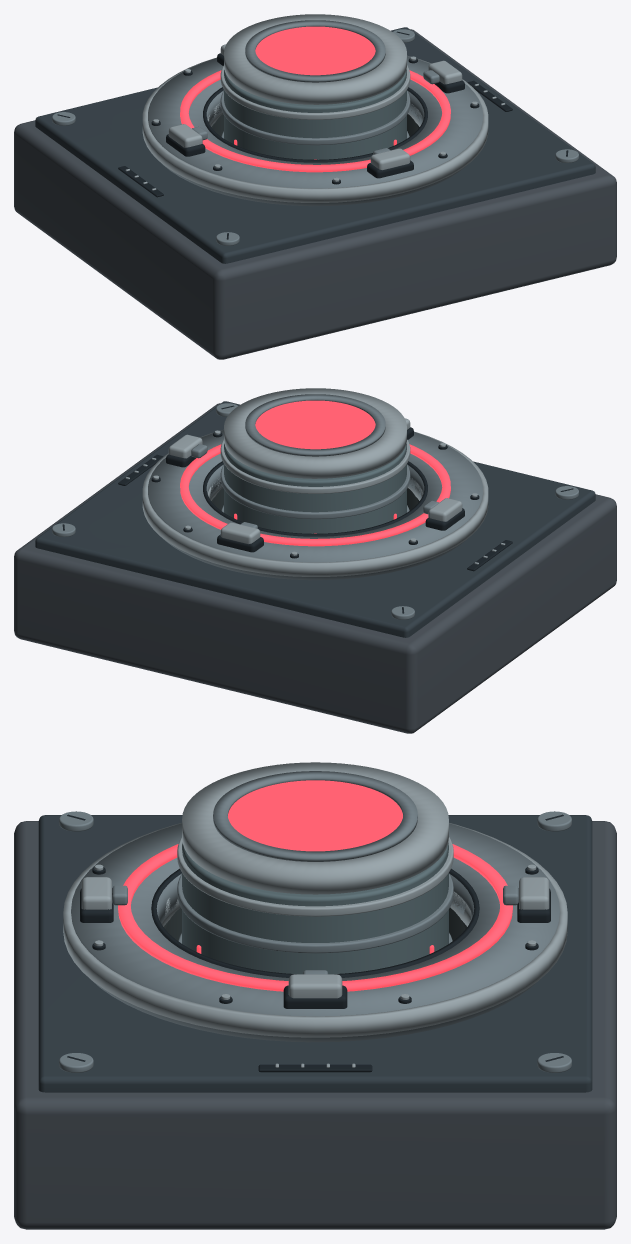
The model's file is EnergyCellSocket_Red.fbx.
3 views of the same model, one above another, from view 1: azimuth 30°, elevation 25°; view 2: azimuth 150°, elevation 25°; view 3: azimuth 270°, elevation 25° (orthographic). The views are drawn at different scales.
Visible parts, largest first — view 1: SOCKET_Housing_Main_Gunmetal, SOCKET_Front_Faceplate, SOCKET_Armored_Retainer_Bezel, CELL_Insert_Ceramic_Titanium_Body_Dia_0.92m, CELL_Front_Armored_End_Cap, SOCKET_Outer_Bezel_Machined_Border, CELL_Emissive_Core_Window, SOCKET_Indicator_Ring_Green_Emissive, CELL_Front_Cap_Retaining_Rim, CELL_Contact_Rib_05, CELL_Contact_Rib_04, SOCKET_Bezel_Inner_Dark_Inlay (+3 smaller); view 2: SOCKET_Housing_Main_Gunmetal, SOCKET_Front_Faceplate, SOCKET_Armored_Retainer_Bezel, CELL_Insert_Ceramic_Titanium_Body_Dia_0.92m, CELL_Front_Armored_End_Cap, SOCKET_Outer_Bezel_Machined_Border, CELL_Emissive_Core_Window, SOCKET_Indicator_Ring_Green_Emissive, CELL_Front_Cap_Retaining_Rim, CELL_Contact_Rib_05, CELL_Contact_Rib_04, SOCKET_Bezel_Inner_Dark_Inlay (+3 smaller); view 3: SOCKET_Housing_Main_Gunmetal, SOCKET_Front_Faceplate, SOCKET_Armored_Retainer_Bezel, CELL_Insert_Ceramic_Titanium_Body_Dia_0.92m, CELL_Front_Armored_End_Cap, SOCKET_Outer_Bezel_Machined_Border, CELL_Emissive_Core_Window, SOCKET_Indicator_Ring_Green_Emissive, CELL_Front_Cap_Retaining_Rim, CELL_Contact_Rib_05, CELL_Contact_Rib_04, SOCKET_Bezel_Inner_Dark_Inlay (+6 smaller).
Part boxes in pixels (x1,y1,x2,y2): SOCKET_Housing_Main_Gunmetal: (14, 29, 616, 359); SOCKET_Front_Faceplate: (35, 27, 595, 263); SOCKET_Armored_Retainer_Bezel: (148, 56, 482, 206); CELL_Insert_Ceramic_Titanium_Body_Dia_0.92m: (224, 69, 406, 159); CELL_Front_Armored_End_Cap: (224, 14, 406, 104); SOCKET_Outer_Bezel_Machined_Border: (142, 55, 488, 202); CELL_Emissive_Core_Window: (255, 26, 375, 75); SOCKET_Indicator_Ring_Green_Emissive: (180, 70, 450, 172); CELL_Front_Cap_Retaining_Rim: (245, 20, 385, 82); CELL_Contact_Rib_05: (220, 65, 410, 119); CELL_Contact_Rib_04: (220, 90, 410, 145); SOCKET_Bezel_Inner_Dark_Inlay: (203, 87, 427, 162); SOCKET_Housing_Main_Gunmetal: (14, 403, 616, 733); SOCKET_Front_Faceplate: (35, 401, 595, 637); SOCKET_Armored_Retainer_Bezel: (148, 430, 482, 580); CELL_Insert_Ceramic_Titanium_Body_Dia_0.92m: (224, 443, 406, 533); CELL_Front_Armored_End_Cap: (224, 388, 406, 478); SOCKET_Outer_Bezel_Machined_Border: (142, 429, 488, 576); CELL_Emissive_Core_Window: (255, 400, 375, 449); SOCKET_Indicator_Ring_Green_Emissive: (180, 444, 450, 546); CELL_Front_Cap_Retaining_Rim: (245, 394, 385, 456); CELL_Contact_Rib_05: (220, 439, 410, 493); CELL_Contact_Rib_04: (220, 464, 410, 519); SOCKET_Bezel_Inner_Dark_Inlay: (203, 461, 427, 536); SOCKET_Housing_Main_Gunmetal: (14, 821, 616, 1229); SOCKET_Front_Faceplate: (38, 815, 592, 1092); SOCKET_Armored_Retainer_Bezel: (71, 823, 559, 1042); CELL_Insert_Ceramic_Titanium_Body_Dia_0.92m: (182, 843, 448, 974); CELL_Front_Armored_End_Cap: (182, 762, 448, 894); SOCKET_Outer_Bezel_Machined_Border: (63, 823, 567, 1037); CELL_Emissive_Core_Window: (228, 780, 402, 851); SOCKET_Indicator_Ring_Green_Emissive: (118, 844, 512, 991); CELL_Front_Cap_Retaining_Rim: (213, 771, 417, 861); CELL_Contact_Rib_05: (177, 837, 453, 916); CELL_Contact_Rib_04: (177, 874, 453, 953); SOCKET_Bezel_Inner_Dark_Inlay: (151, 868, 479, 977).
Size of the model in its own units: 2.34 by 1.05 by 2.08.
